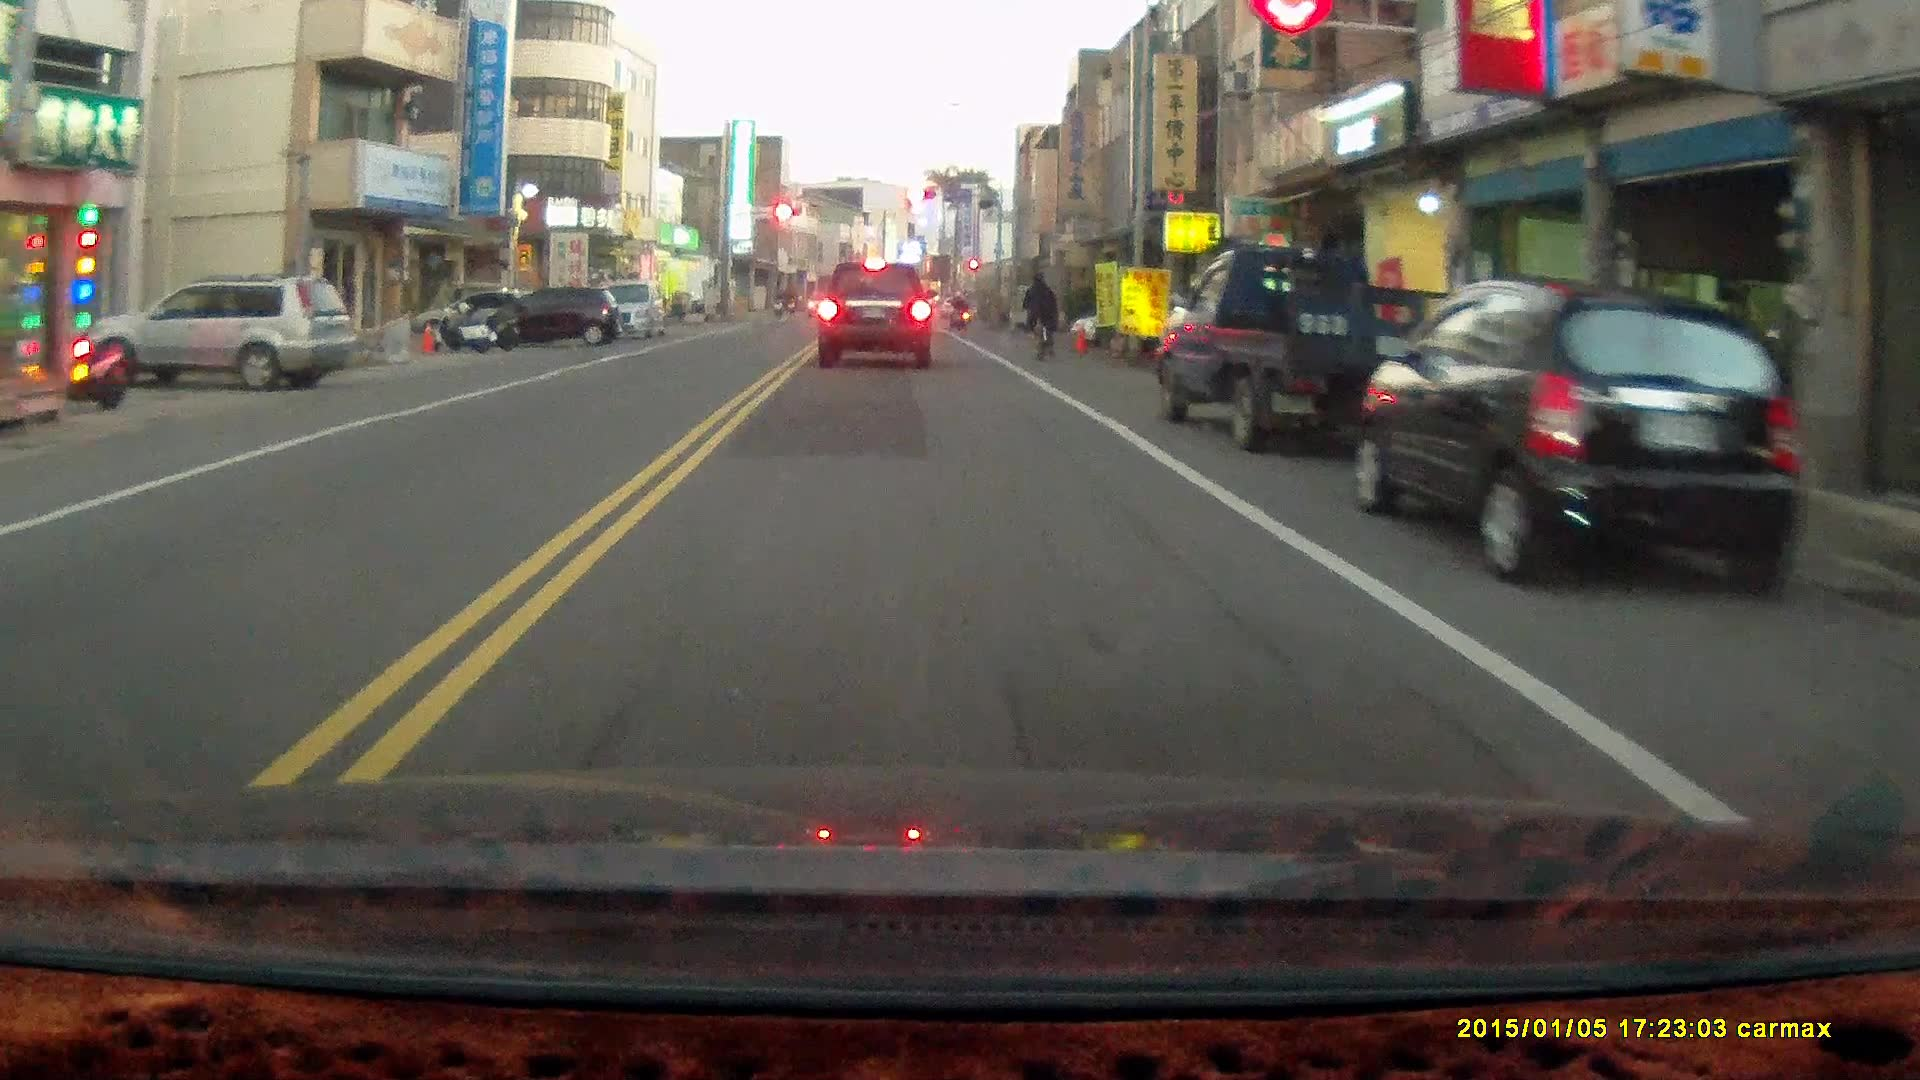rider: (1020, 267, 1063, 366)
vehicle: (1358, 279, 1796, 595), (1160, 245, 1457, 448), (88, 270, 358, 404), (816, 260, 935, 373), (484, 286, 626, 347), (574, 274, 670, 344)
